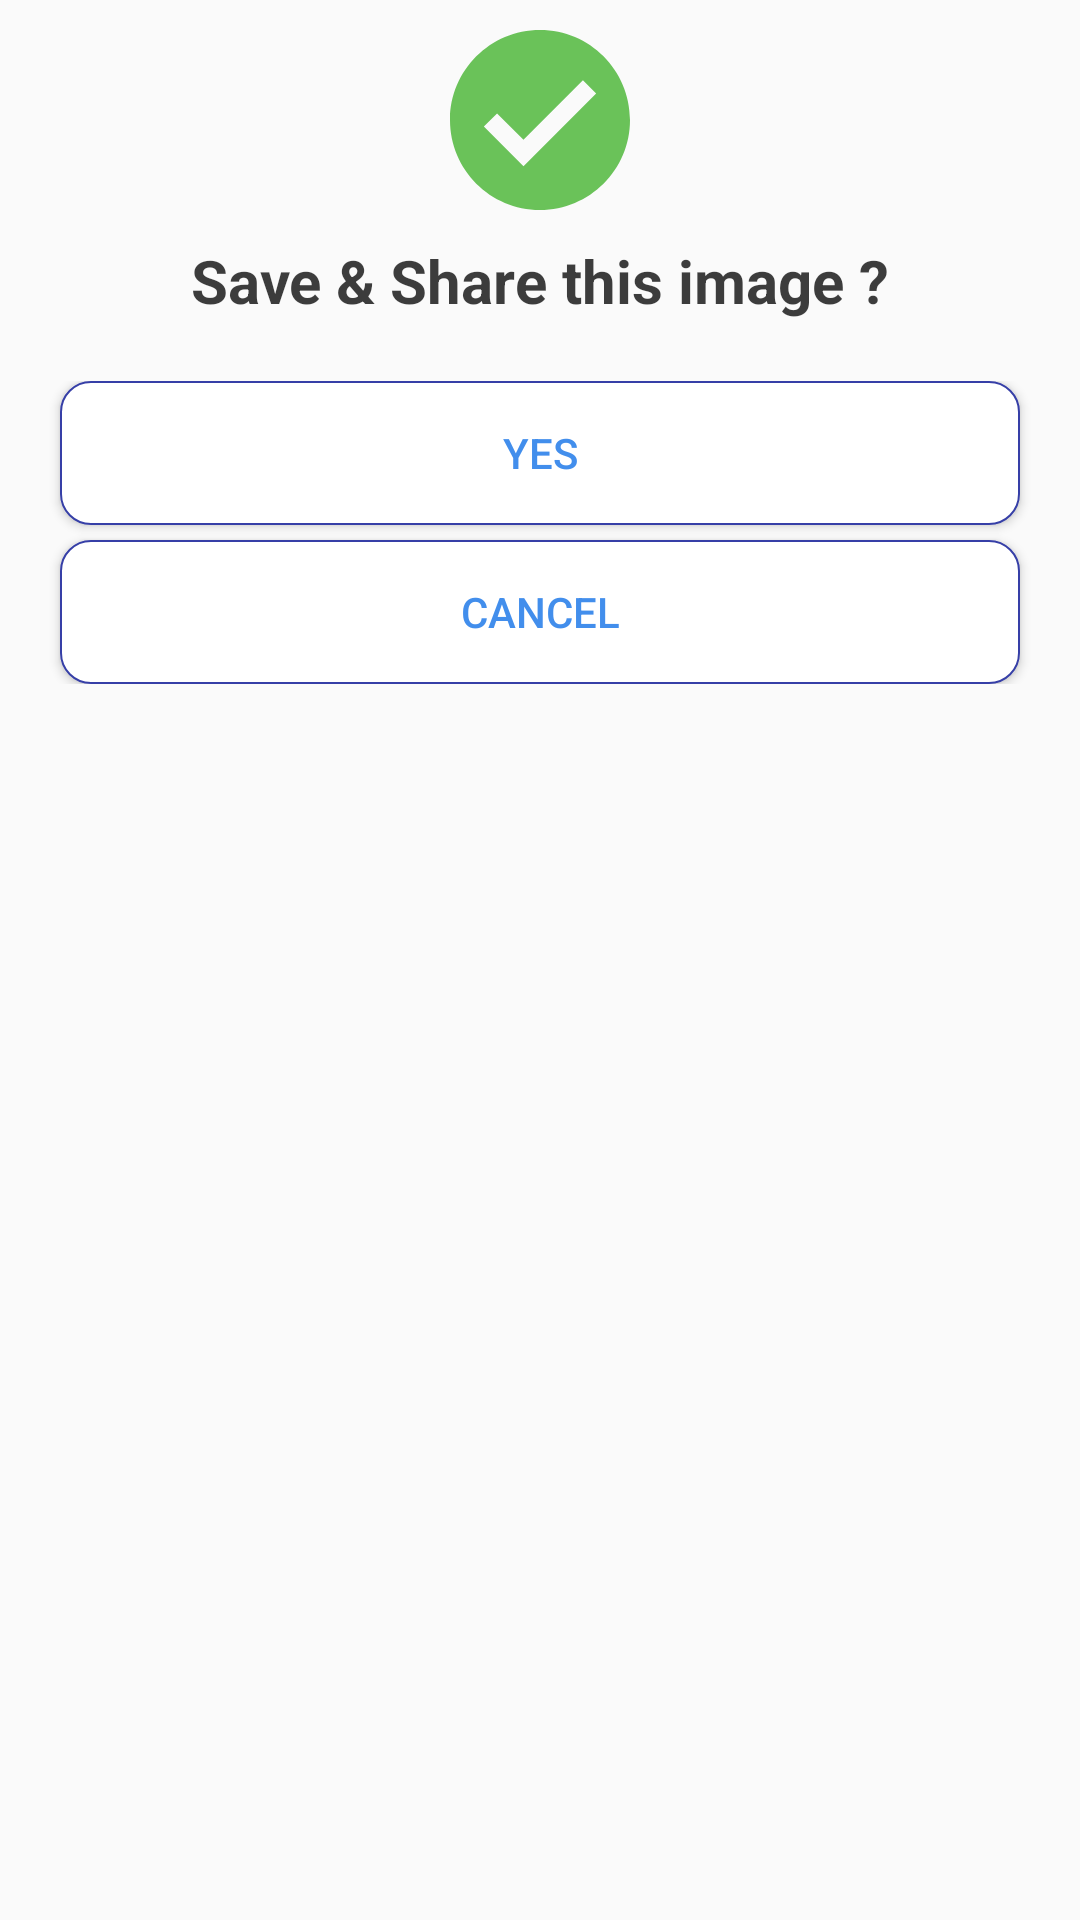

Icons on this 1080*1920 Android screen, each with its box as (x1, y1, x2, y2):
sucess: (450, 30, 630, 210)
